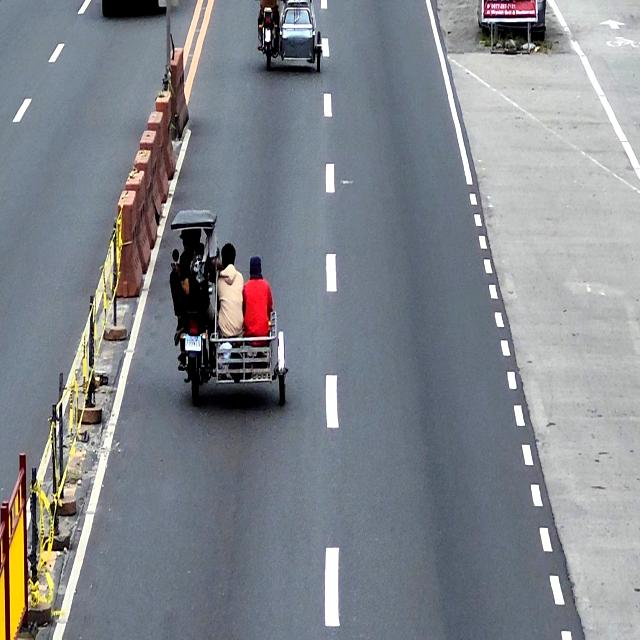License-Plate: (185, 335, 202, 351)
Tricycle: (170, 209, 289, 409), (258, 0, 323, 72)
